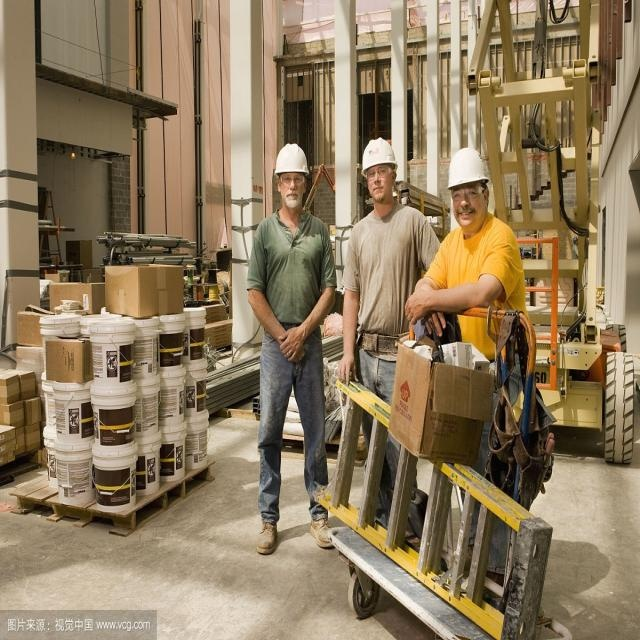Con_Casco: (447, 147, 490, 228), (361, 138, 399, 202), (273, 144, 308, 204)
Sin_Chaleco: (355, 208, 421, 336), (255, 213, 327, 327)
